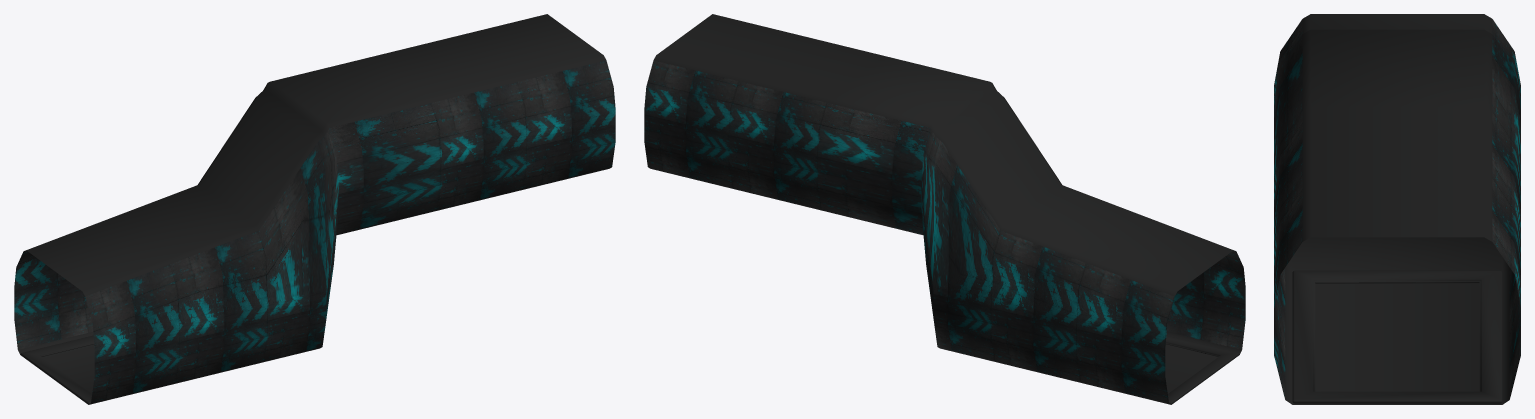
Rendered from corridor_up.fbx.
3 renders of one model, left to right at view 1: azimuth 30°, elevation 25°; view 2: azimuth 150°, elevation 25°; view 3: azimuth 270°, elevation 25°, orthographic. The views are drawn at different scales.
Visible parts, largest first — view 1: corridor_up, corridor_up.001; view 2: corridor_up, corridor_up.001; view 3: corridor_up, corridor_up.002.
Boxes of the visible parts, x1=… form: corridor_up: x1=14, y1=14, x2=615, y2=404; corridor_up.001: x1=20, y1=335, x2=94, y2=404; corridor_up: x1=644, y1=14, x2=1245, y2=404; corridor_up.001: x1=1165, y1=335, x2=1239, y2=404; corridor_up: x1=1274, y1=14, x2=1520, y2=404; corridor_up.002: x1=1292, y1=270, x2=1502, y2=403.
Size of the model in its own units: 1500 by 601 by 400.
